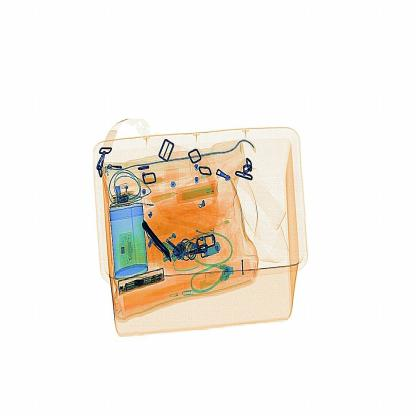knife: (136, 213, 178, 266)
